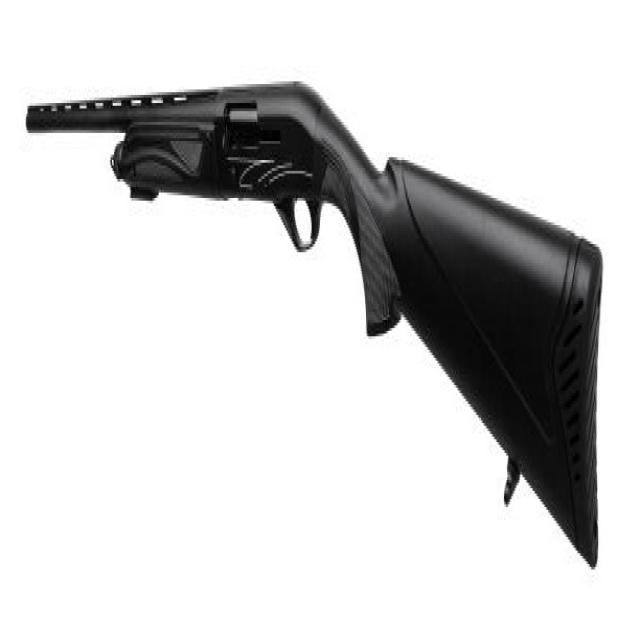rifle: (22, 81, 607, 587)
